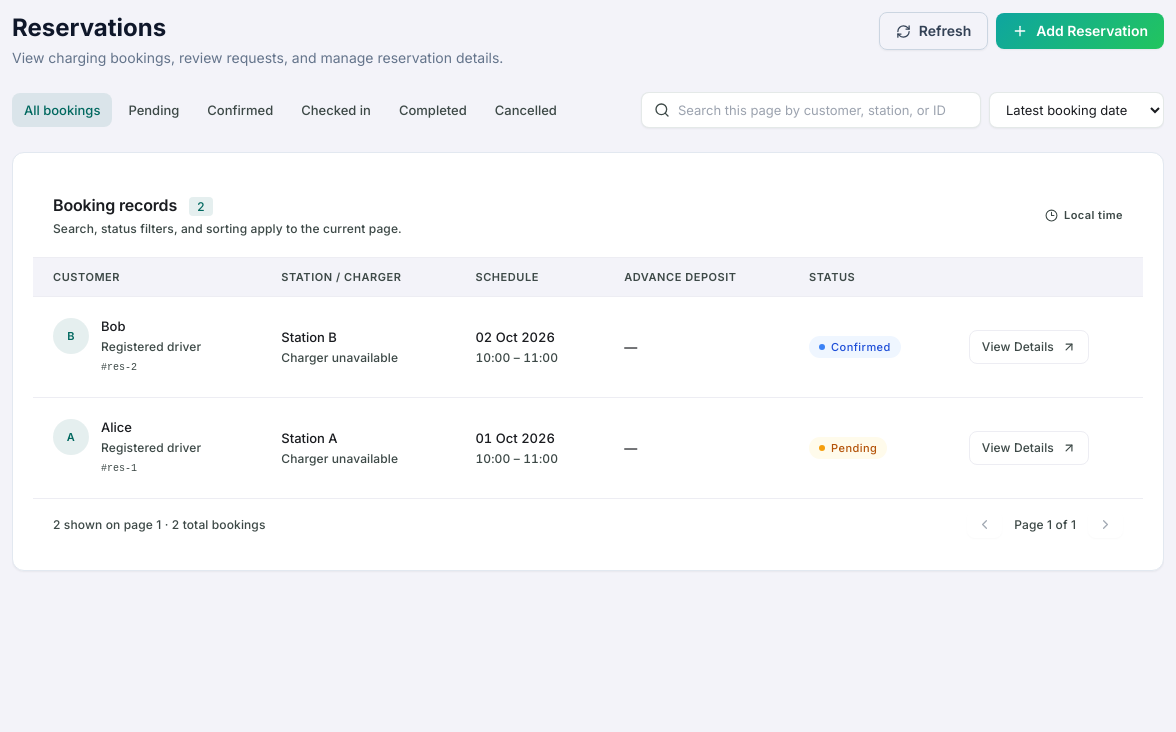
Test: ReservationsPage › renders reservations and allows search
The width and height of the screenshot is (1176, 732).
expect the text "Alice" is shown: met, box [101,419,132,435]
expect the text "Bob" is shown: met, box [101,318,125,334]
Type "Alice" into the field with placeholder "Search this page by customer, station, or ID".
click(823, 110); type("Alice")  # box [678,101,968,119]
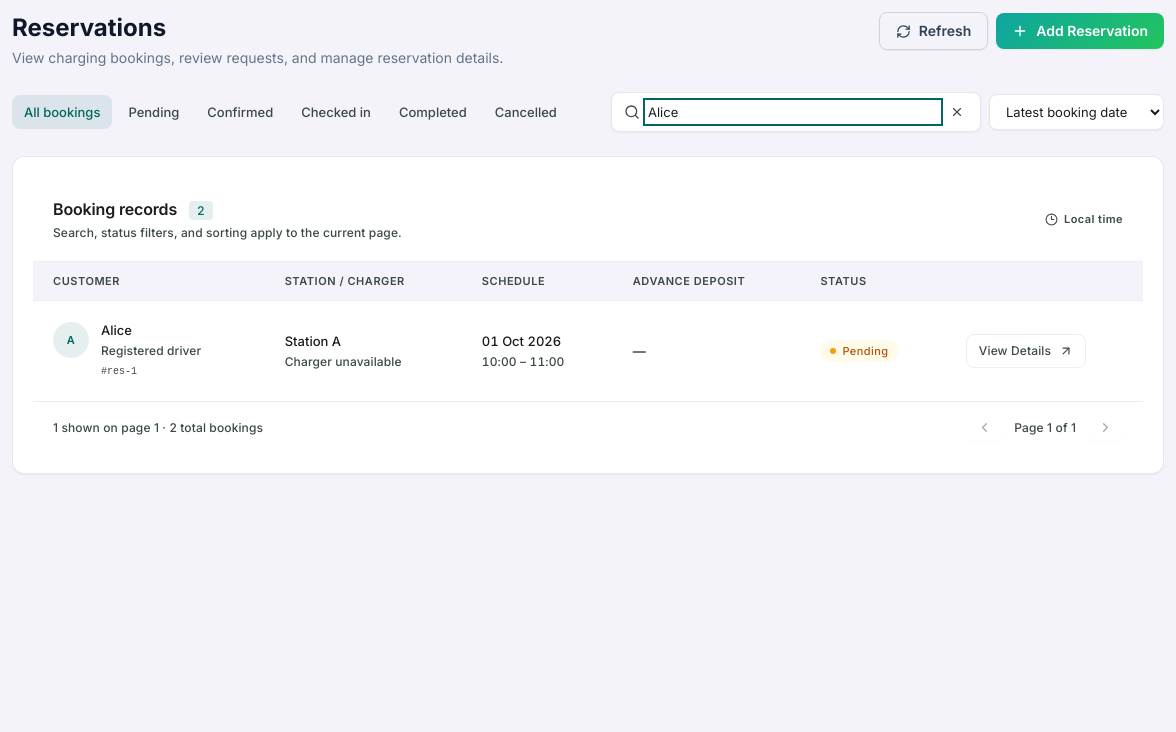
expect the text "Alice" is shown: met, box [101,322,132,338]
expect the text "Bob" is gone: met
